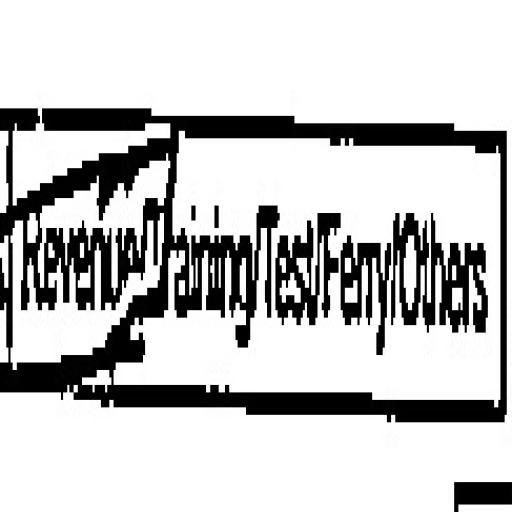check: (4, 84, 162, 432)
